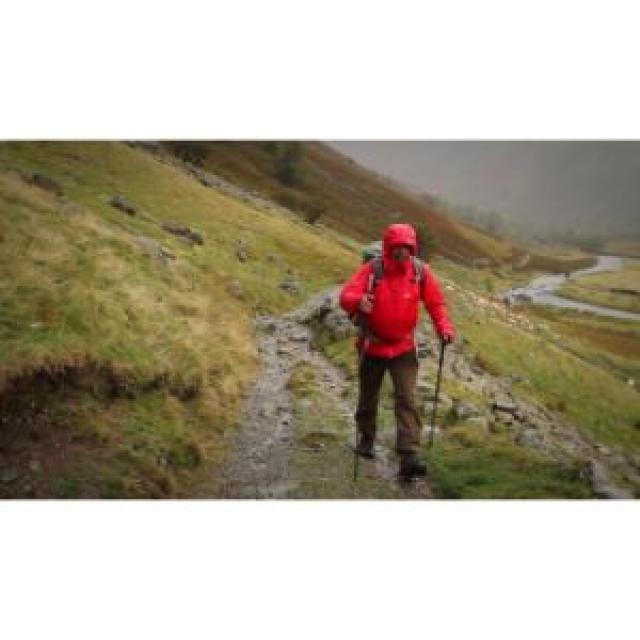nonfall: (346, 218, 468, 482)
